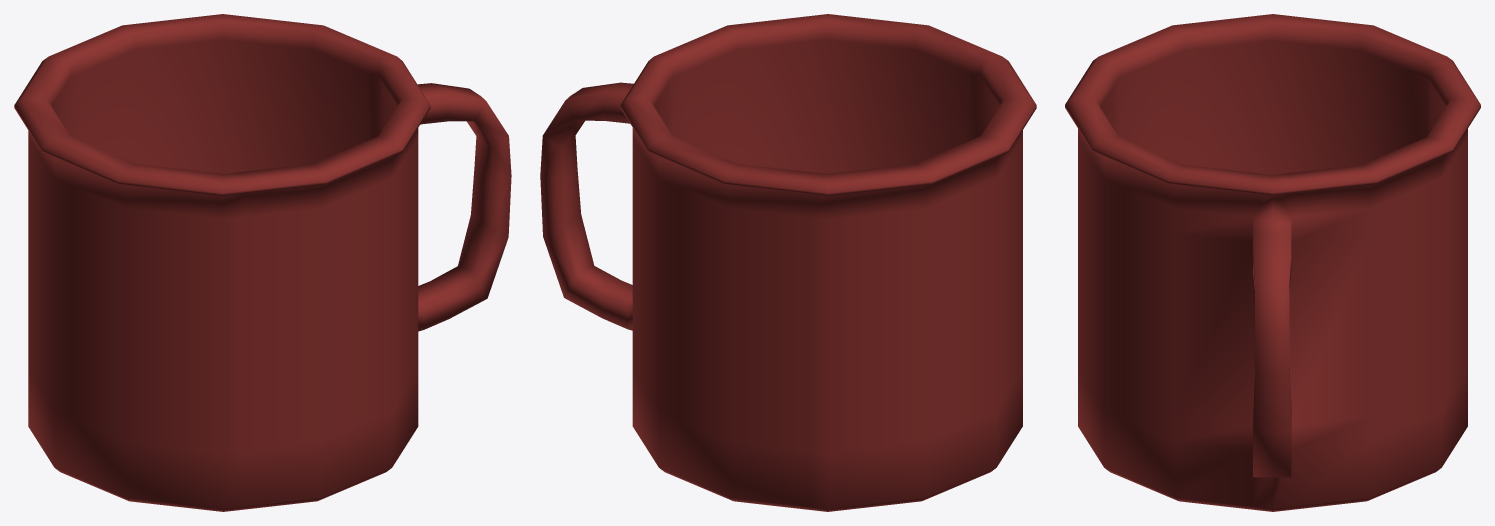
Rendered from red_metal_cup_white_speckles.dae.
The picture shows the model from 3 angles, left to right: view 1: azimuth 30°, elevation 25°; view 2: azimuth 150°, elevation 25°; view 3: azimuth 270°, elevation 25°; orthographic projection.
Visible parts, largest first — view 1: Circle_001; view 2: Circle_001; view 3: Circle_001.
Part boxes in pixels (x1,y1,x2,y2): Circle_001: (14,14,511,511); Circle_001: (540,14,1036,511); Circle_001: (1065,14,1480,511).
Bounding box in the file's own units: 0.1159 × 0.0908 × 0.0802.
